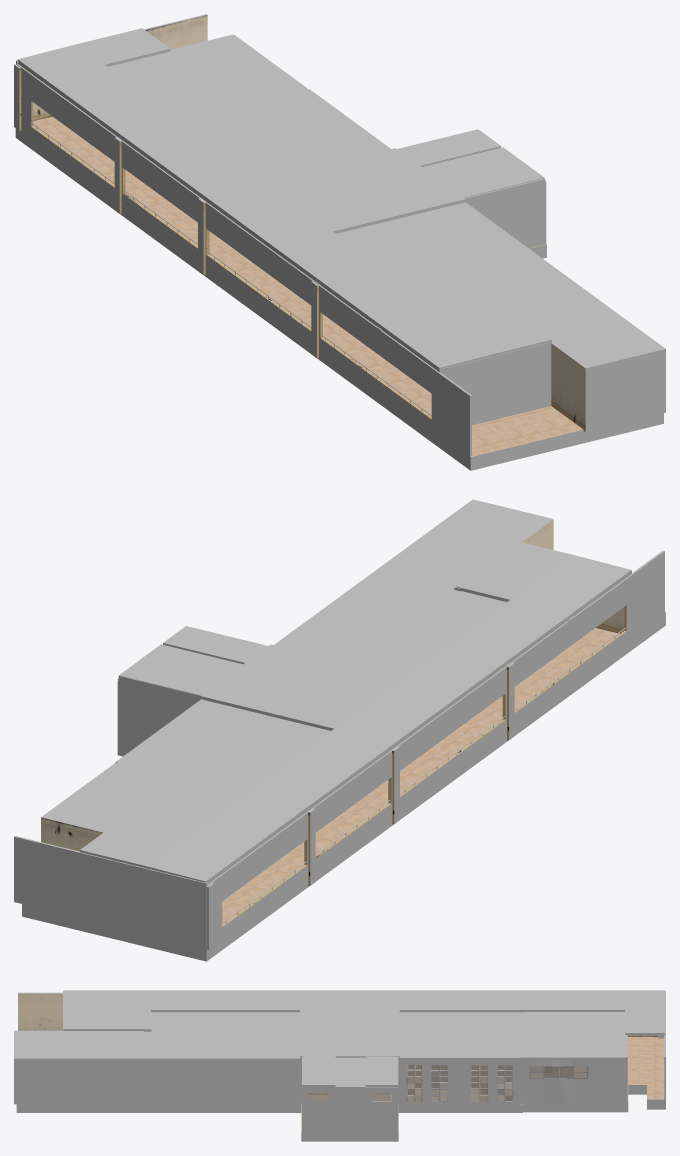
Rendered from 3rdFloor.fbx.
The picture shows the model from 3 angles, top to bottom: view 1: azimuth 30°, elevation 25°; view 2: azimuth 150°, elevation 25°; view 3: azimuth 270°, elevation 25°; orthographic projection. The views are drawn at different scales.
Visible parts, largest first — view 1: kisame, pasted__mini_theater, pCube1, wall, pasted__pasted__lrh_301, pasted__lrh_302, wall1, CR_Girl, CR_Boy, wall2, cr_wall; view 2: kisame, pasted__mini_theater, wall, pCube1, wall2, pasted__pasted__lrh_301, pasted__lrh_302, CR_Boy, CR_Girl, cr_wall; view 3: pasted__mini_theater, kisame, pasted__pasted__lrh_301, pasted__lrh_302, pCube1, CR_Girl, CR_Boy, cr_wall, wall.
Part boxes in pixels (left/top/right/bottom): kisame: left=17, top=28, right=551, bottom=370; pasted__mini_theater: left=336, top=202, right=665, bottom=432; pCube1: left=15, top=116, right=663, bottom=470; wall: left=16, top=64, right=471, bottom=456; pasted__pasted__lrh_301: left=180, top=89, right=390, bottom=180; pasted__lrh_302: left=108, top=34, right=307, bottom=119; wall1: left=438, top=342, right=551, bottom=425; CR_Girl: left=440, top=161, right=546, bottom=247; CR_Boy: left=397, top=129, right=501, bottom=166; wall2: left=16, top=14, right=207, bottom=120; cr_wall: left=422, top=147, right=521, bottom=180; kisame: left=80, top=541, right=631, bottom=883; pasted__mini_theater: left=274, top=499, right=553, bottom=676; wall: left=206, top=550, right=664, bottom=941; pCube1: left=22, top=611, right=665, bottom=961; wall2: left=14, top=836, right=207, bottom=948; pasted__pasted__lrh_301: left=115, top=699, right=330, bottom=793; pasted__lrh_302: left=41, top=763, right=244, bottom=851; CR_Boy: left=117, top=658, right=223, bottom=745; CR_Girl: left=163, top=626, right=267, bottom=664; cr_wall: left=140, top=644, right=242, bottom=678; pasted__mini_theater: left=14, top=1012, right=301, bottom=1104; kisame: left=63, top=990, right=664, bottom=1060; pasted__pasted__lrh_301: left=398, top=1012, right=522, bottom=1112; pasted__lrh_302: left=522, top=1012, right=627, bottom=1112; pCube1: left=16, top=1037, right=665, bottom=1141; CR_Girl: left=302, top=1056, right=335, bottom=1131; CR_Boy: left=365, top=1056, right=398, bottom=1131; cr_wall: left=335, top=1057, right=364, bottom=1133; wall: left=18, top=992, right=657, bottom=1036.
Size of the model in its own units: 173 by 46.78 by 485.
